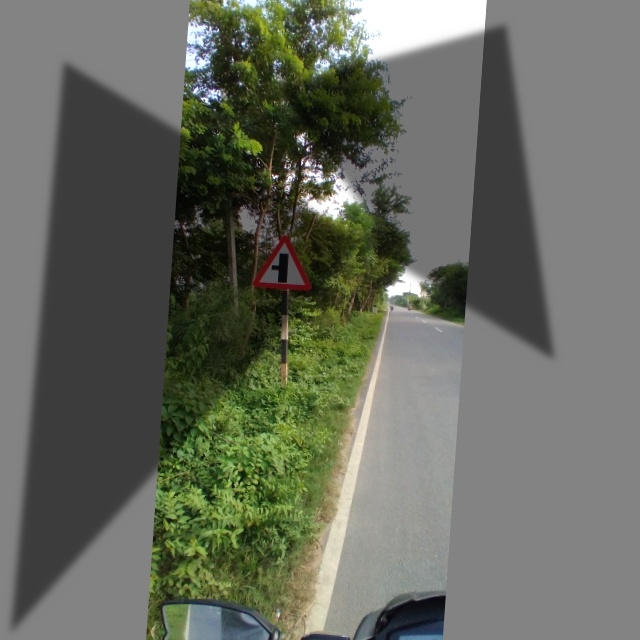Side_Road_Left: (247, 230, 321, 299)
